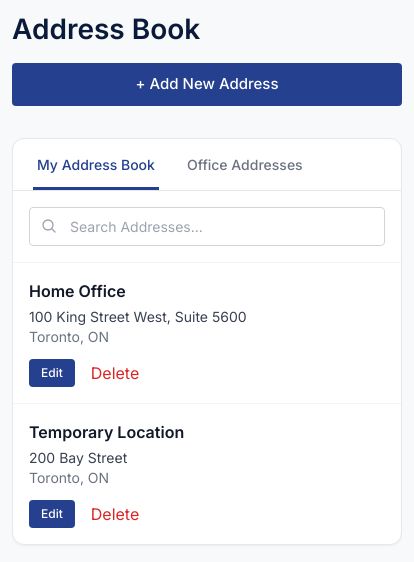
AddressBookPage › AB-12 Confirm delete removes the row
Click the button "Delete" below "Home Office": (115,373) [91,361,139,385]
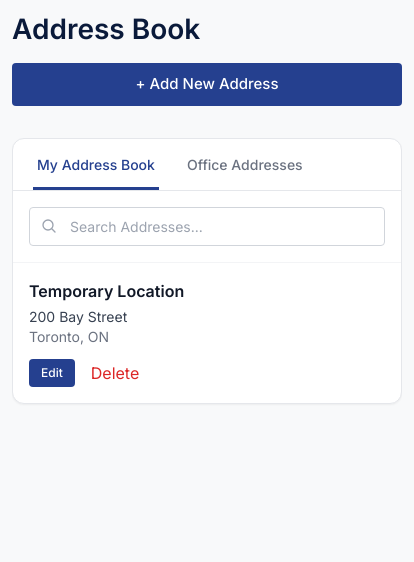
Expected: the text "Temporary Location" is shown, [29,281,184,301]
Now the text "Home Office" is gone
